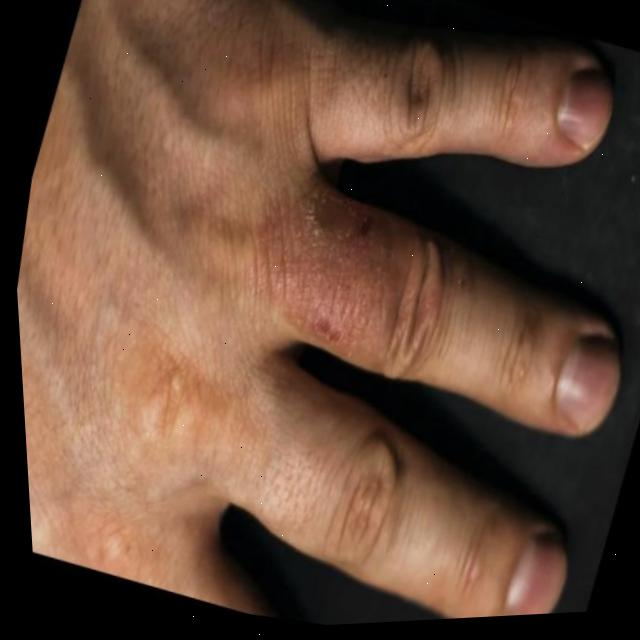Eczema: (255, 180, 424, 359), (93, 369, 198, 484)
